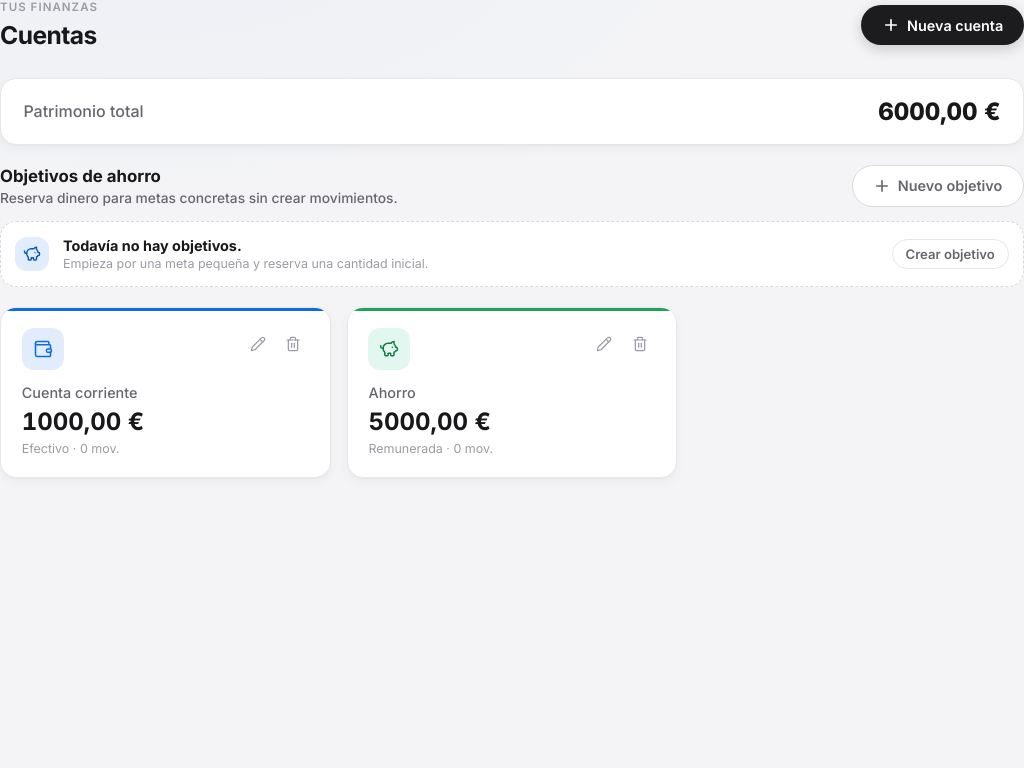
Test: AccountsPage › shows a delete confirmation for an unused account
Click the 2nd button named "Borrar".
click(640, 344)  # box [624, 328, 656, 360]
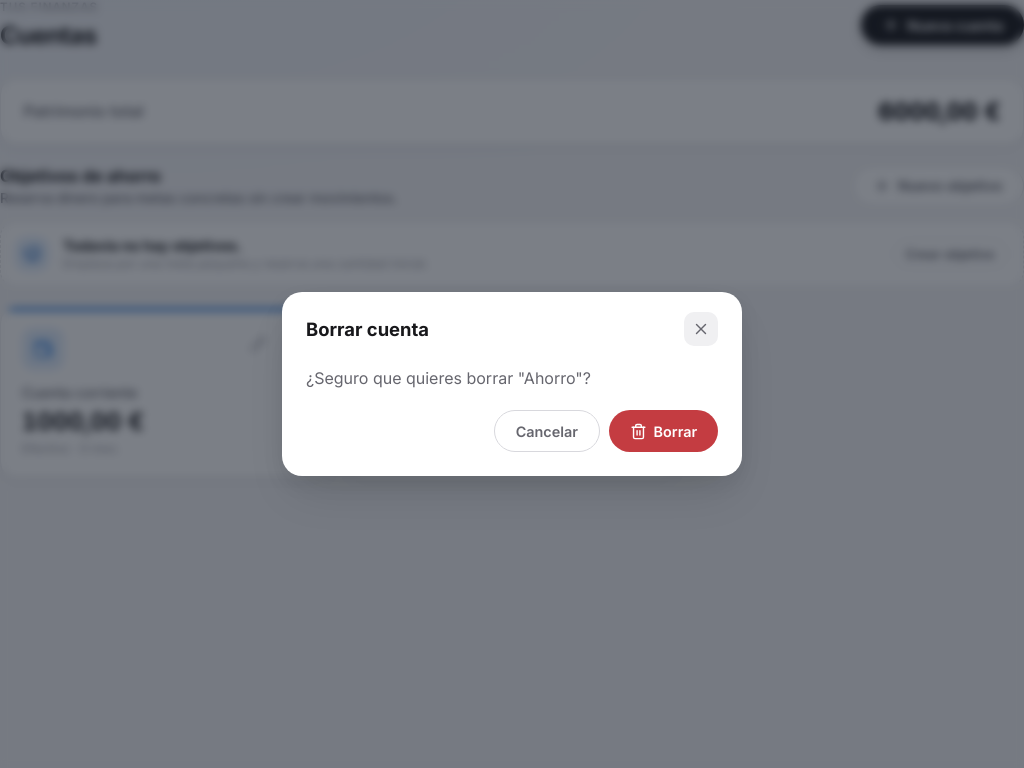
Now the heading "Borrar cuenta" is shown, box [306, 318, 429, 340]
Click the button "Cancelar".
click(547, 431)  # box [494, 410, 600, 452]
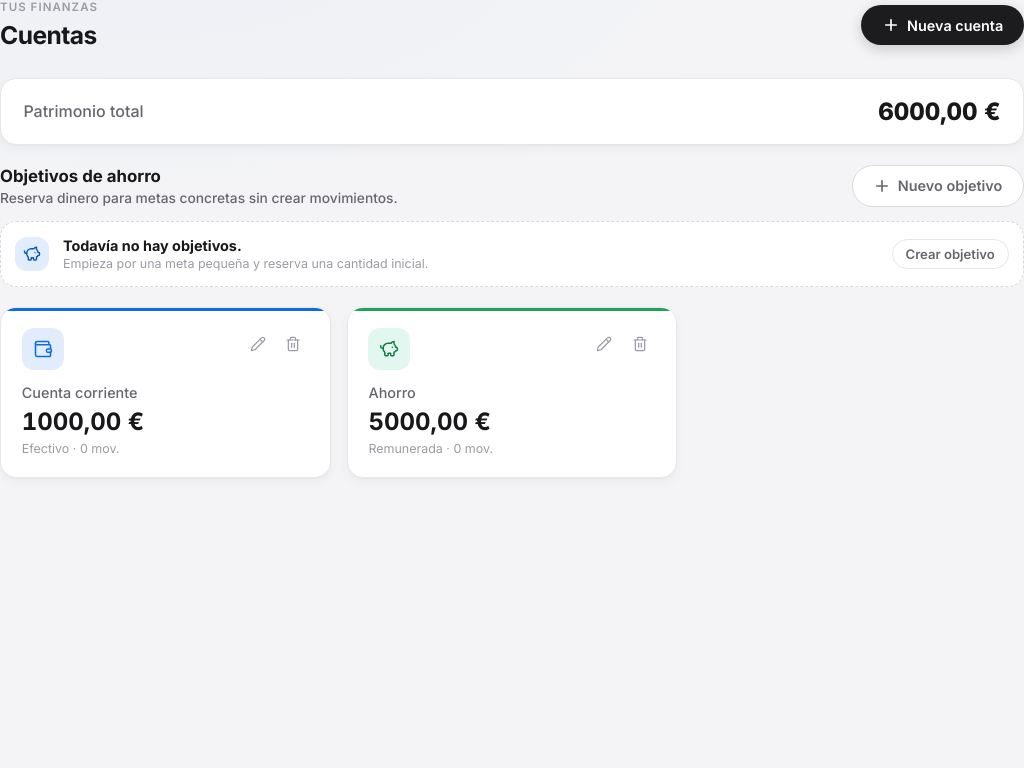
Now the heading "Borrar cuenta" is gone
